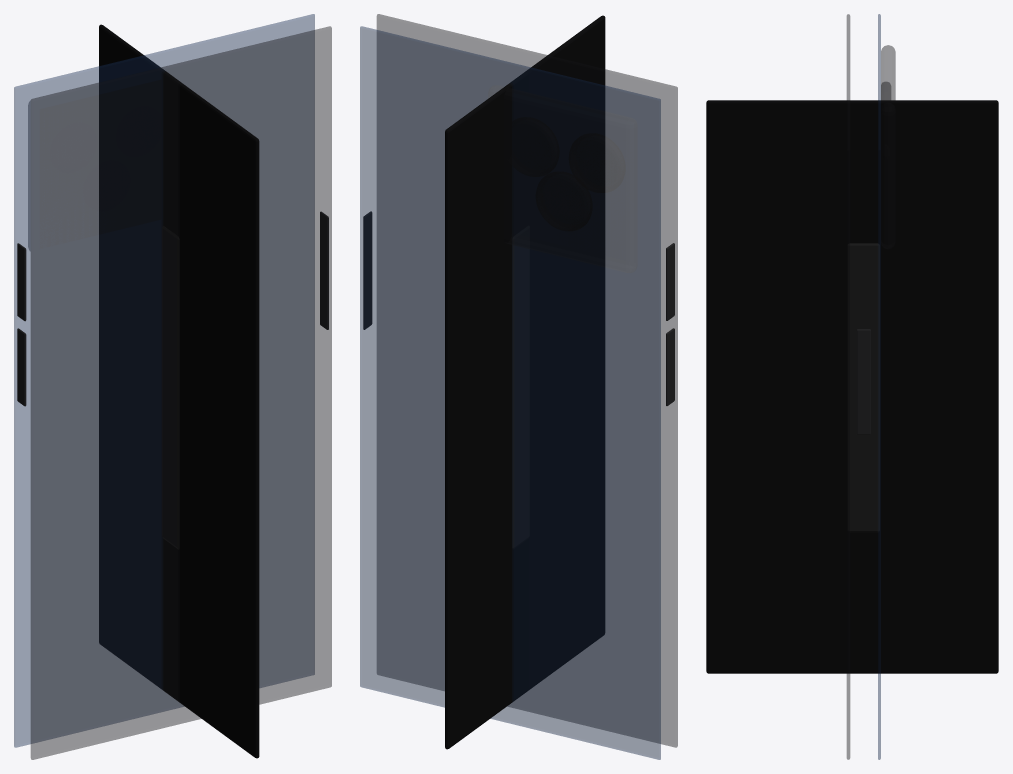
The model's file is iPhone_18_Pro__drawn_.glb.
3 views of the same model, side by side, from view 1: azimuth 30°, elevation 25°; view 2: azimuth 150°, elevation 25°; view 3: azimuth 270°, elevation 25° (orthographic). The views are drawn at different scales.
Visible parts, largest first — view 1: glass.front, glass.back, display.panel, chassis.rail, button.side, button.volume_1, button.volume_2; view 2: glass.back, glass.front, display.panel, camera.island, chassis.rail, lens.1, lens.3, lens.2, button.side, button.volume_1, button.volume_2; view 3: display.panel, chassis.rail, camera.island, glass.front, glass.back, button.side.
Part boxes in pixels (bbox=[...]): glass.front: bbox=[31, 26, 331, 759]; glass.back: bbox=[14, 14, 314, 747]; display.panel: bbox=[99, 24, 259, 758]; chassis.rail: bbox=[162, 226, 179, 549]; button.side: bbox=[320, 211, 328, 329]; button.volume_1: bbox=[17, 328, 26, 406]; button.volume_2: bbox=[17, 243, 26, 321]; glass.back: bbox=[360, 26, 660, 759]; glass.front: bbox=[377, 14, 677, 747]; display.panel: bbox=[445, 15, 605, 749]; camera.island: bbox=[488, 85, 637, 272]; chassis.rail: bbox=[512, 226, 529, 549]; lens.1: bbox=[569, 133, 625, 192]; lens.3: bbox=[536, 171, 592, 230]; lens.2: bbox=[507, 117, 559, 176]; button.side: bbox=[363, 211, 372, 329]; button.volume_1: bbox=[666, 328, 674, 405]; button.volume_2: bbox=[666, 243, 674, 320]; display.panel: bbox=[706, 100, 998, 673]; chassis.rail: bbox=[847, 243, 879, 532]; camera.island: bbox=[881, 45, 895, 248]; glass.front: bbox=[847, 14, 849, 759]; glass.back: bbox=[878, 14, 880, 759]; button.side: bbox=[856, 329, 870, 434].
Bounding box in the file's own units: 0.0786 × 0.163 × 0.0706.
